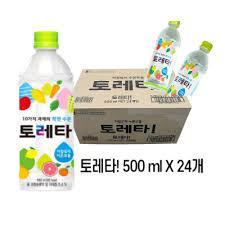toreta: (16, 28, 78, 195)
